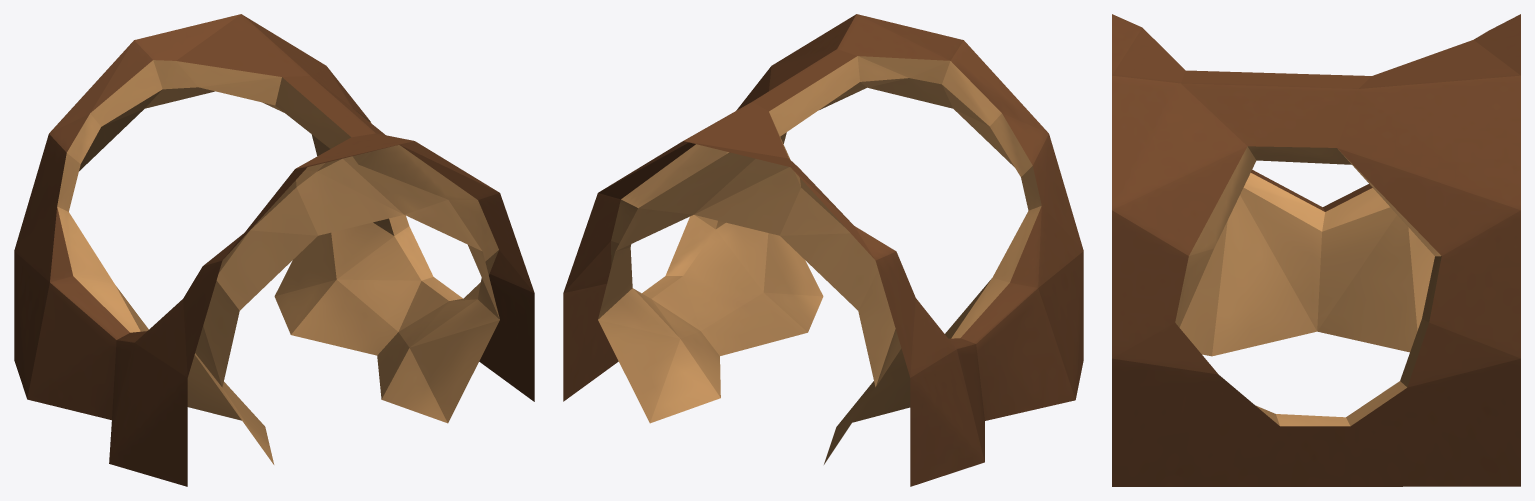
File: Tronc_Perce_Trou2.FBX
3 views of the same model, side by side, from view 1: azimuth 30°, elevation 25°; view 2: azimuth 150°, elevation 25°; view 3: azimuth 270°, elevation 25° (orthographic). The views are drawn at different scales.
Visible parts, largest first — view 1: TroncPerce_Trou2; view 2: TroncPerce_Trou2; view 3: TroncPerce_Trou2.
Part boxes in pixels (x1=…): TroncPerce_Trou2: x1=14, y1=14, x2=534, y2=486; TroncPerce_Trou2: x1=563, y1=14, x2=1083, y2=486; TroncPerce_Trou2: x1=1112, y1=14, x2=1520, y2=486.
Size of the model in its own units: 2.2 by 1.6 by 1.73.
